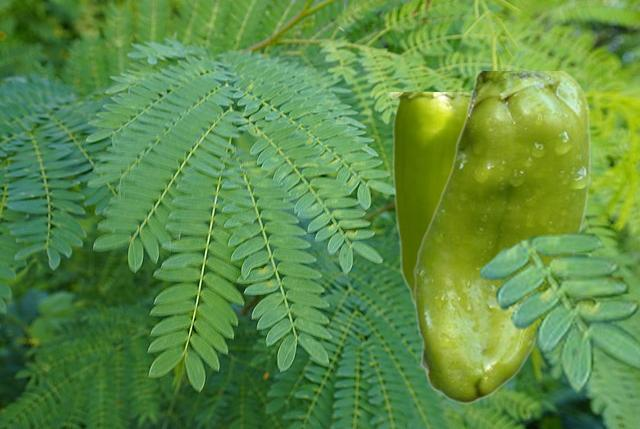green_chili: (413, 71, 589, 403), (387, 92, 469, 303)
